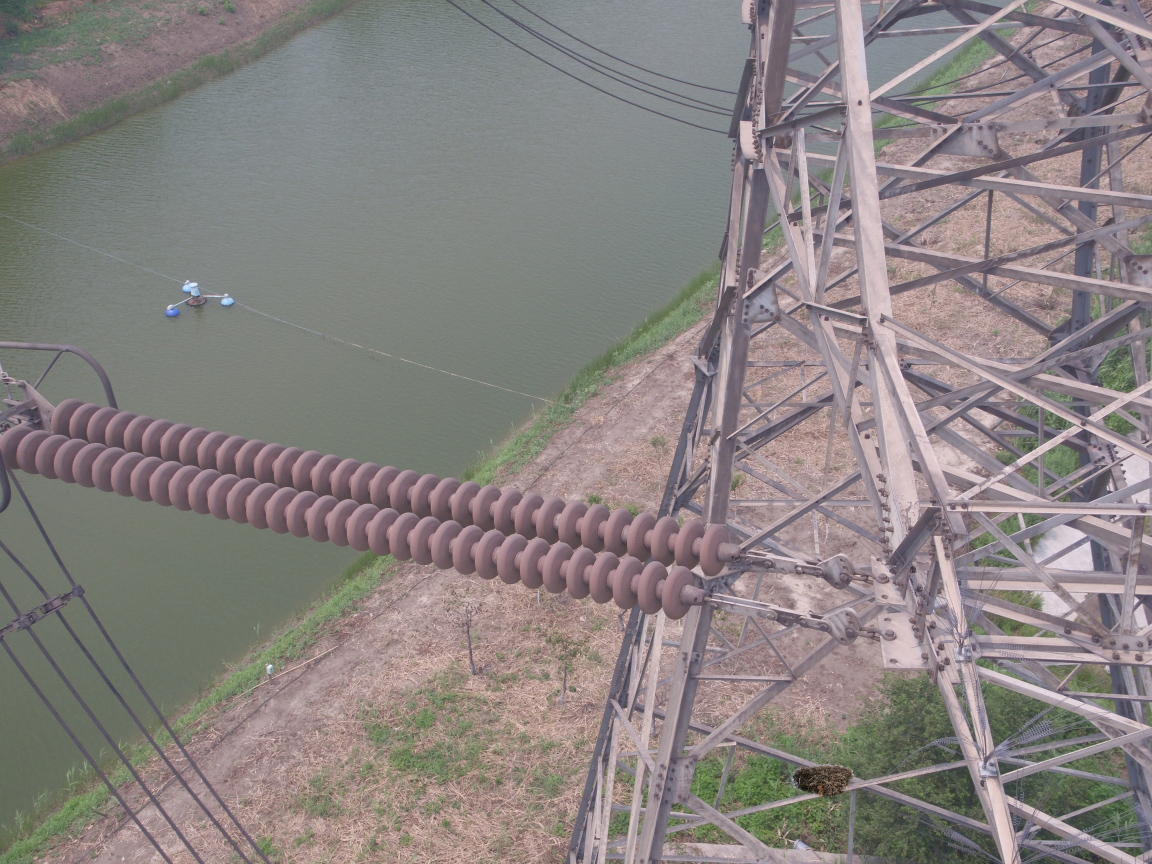nest: (788, 757, 858, 800)
